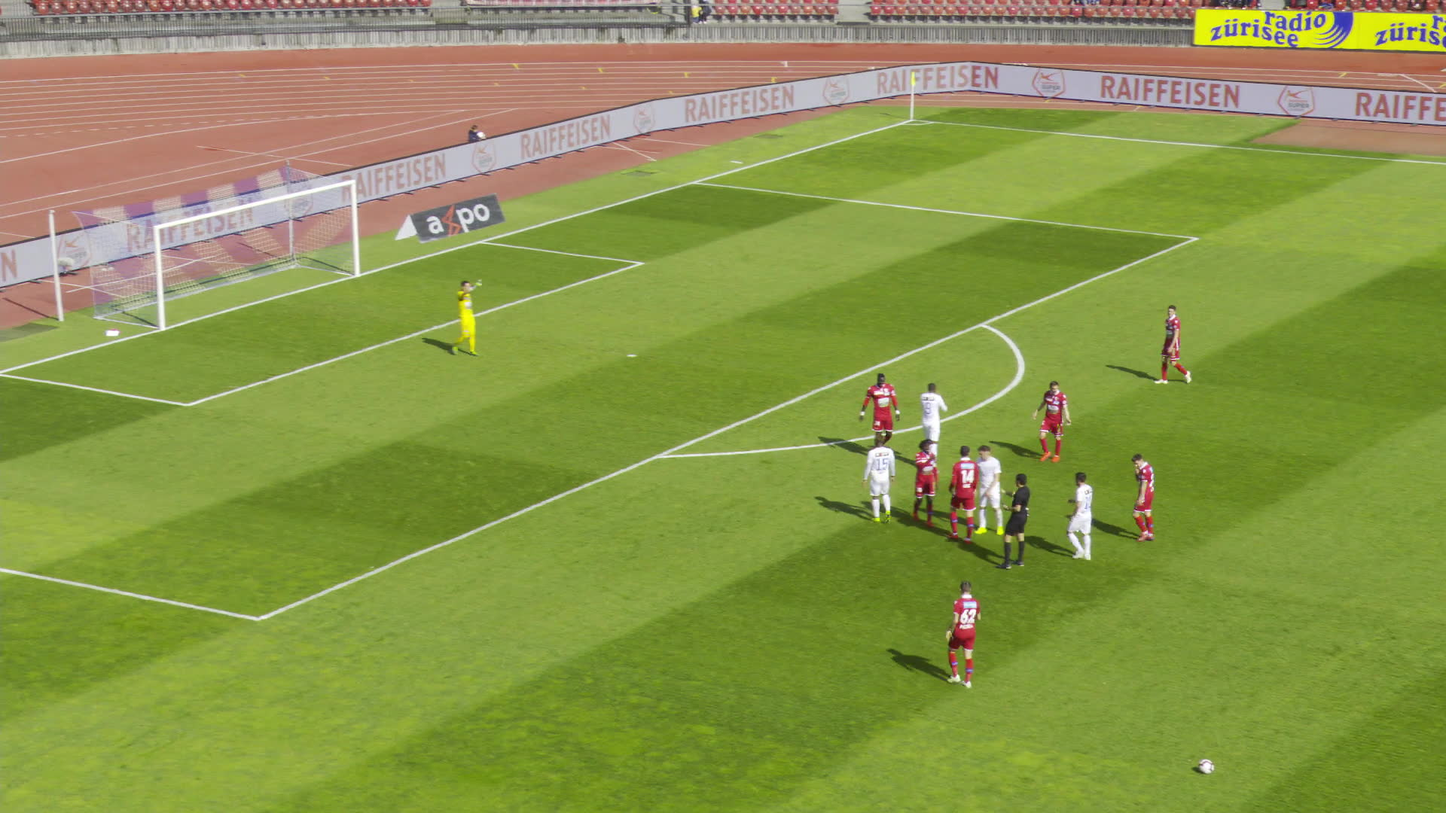ball: (1197, 758, 1211, 772)
player: (940, 581, 982, 688), (1027, 379, 1074, 463), (856, 373, 900, 452), (1151, 304, 1191, 383), (861, 437, 895, 528), (945, 446, 976, 544), (973, 446, 1004, 535), (450, 278, 482, 355), (908, 440, 936, 528), (917, 381, 945, 469), (1066, 471, 1092, 561), (1129, 453, 1154, 542)
referee: (996, 471, 1028, 569)
